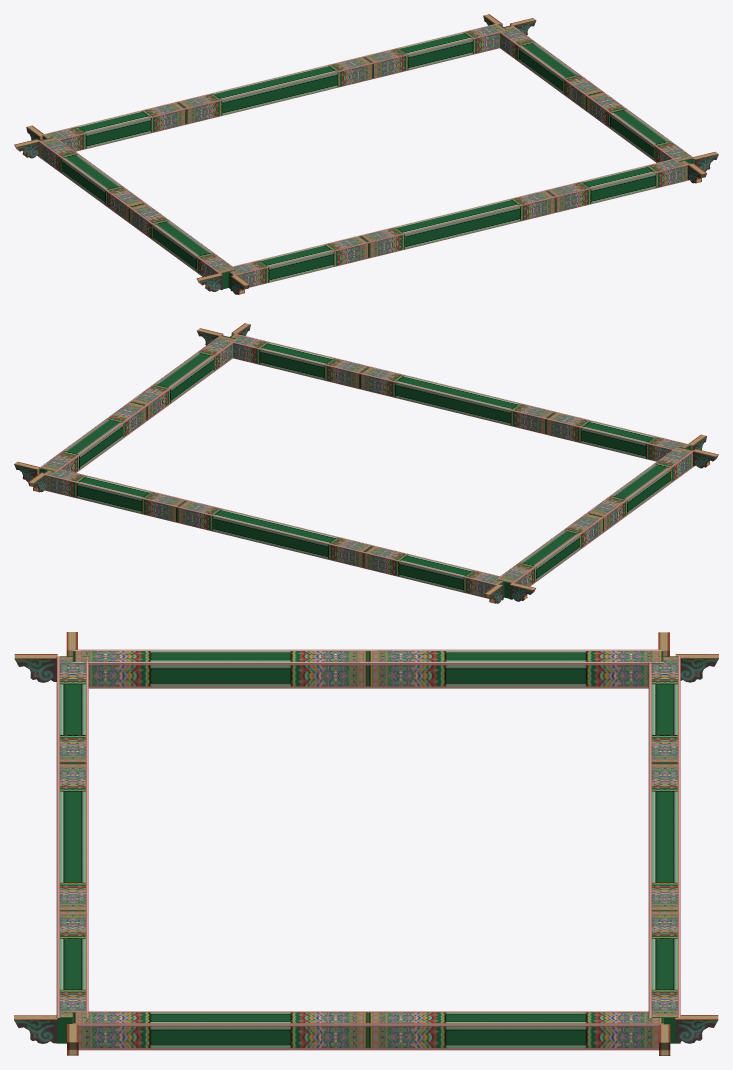
Rendered from SM_Geumsan_Mi_Bang_C.fbx.
3 views of the same model, one above another, from view 1: azimuth 30°, elevation 25°; view 2: azimuth 150°, elevation 25°; view 3: azimuth 270°, elevation 25° (orthographic). The views are drawn at different scales.
Parts seen in each view (by area): view 1: SM_Geumsan_Mi_Bang_C; view 2: SM_Geumsan_Mi_Bang_C; view 3: SM_Geumsan_Mi_Bang_C.
Part boxes in pixels (<box>): SM_Geumsan_Mi_Bang_C: <box>14,14,718,294</box>; SM_Geumsan_Mi_Bang_C: <box>14,323,718,603</box>; SM_Geumsan_Mi_Bang_C: <box>14,632,718,1055</box>.
Size of the model in its own units: 1266 by 36.77 by 919.
